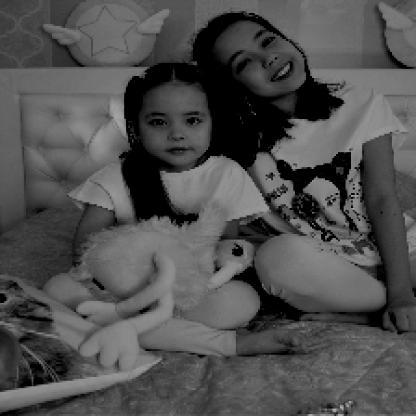child: (66, 62, 272, 356)
